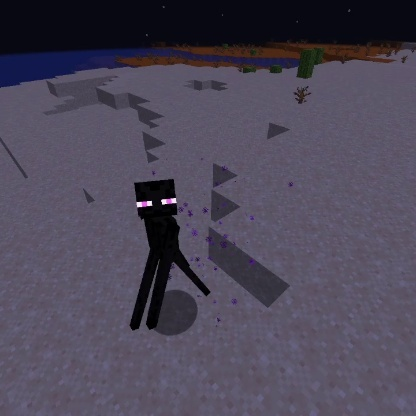enderman: (124, 176, 216, 334)
